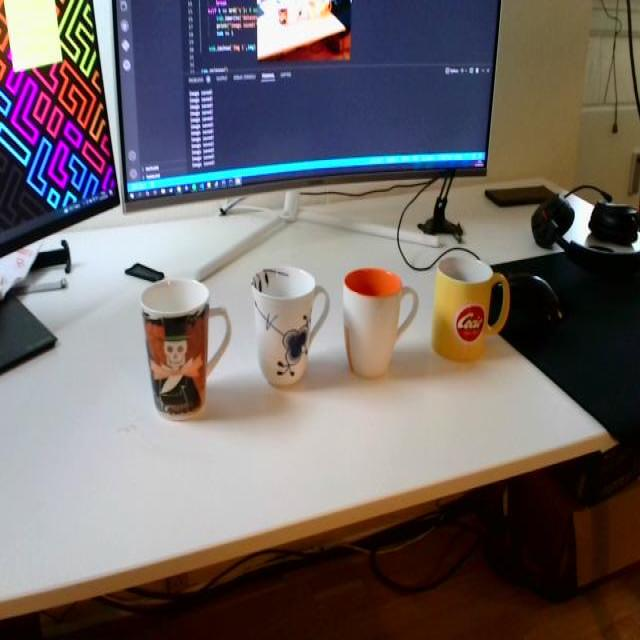cup: (128, 265, 232, 412), (248, 255, 332, 392), (338, 262, 424, 388), (432, 254, 518, 368)
